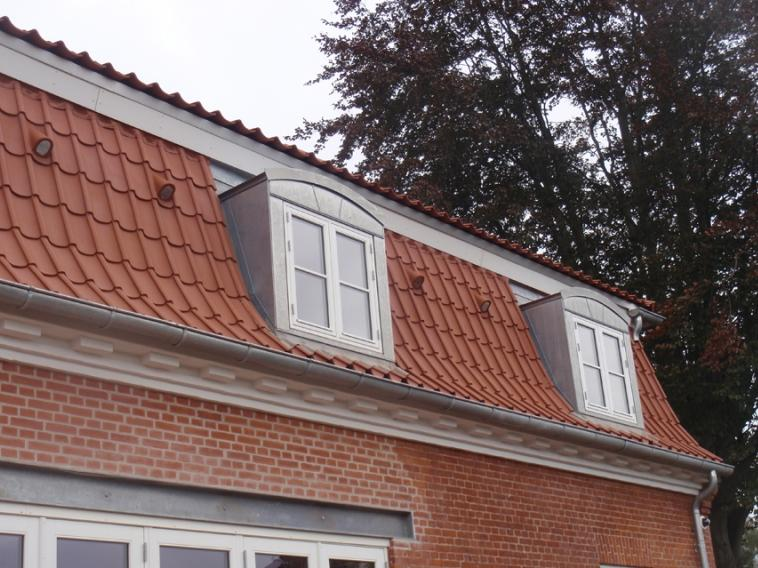kvist windows: (219, 169, 394, 361), (521, 288, 644, 428)
